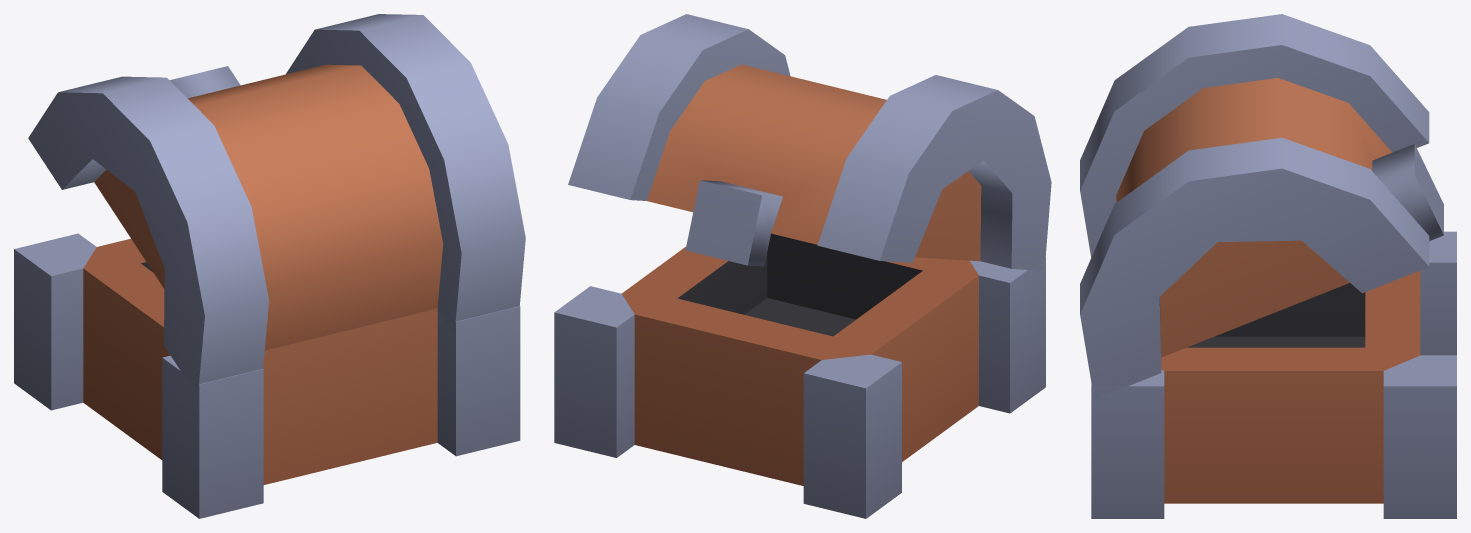
File: chest.fbx
3 views of the same model, side by side, from view 1: azimuth 30°, elevation 25°; view 2: azimuth 150°, elevation 25°; view 3: azimuth 270°, elevation 25° (orthographic). The views are drawn at different scales.
Parts seen in each view (by area): view 1: chest; view 2: chest; view 3: chest.
Part boxes in pixels (<box>): chest: <box>14,14,525,518</box>; chest: <box>554,14,1051,518</box>; chest: <box>1080,14,1456,518</box>.
Size of the model in its own units: 0.8206 by 0.8675 by 0.8455.
